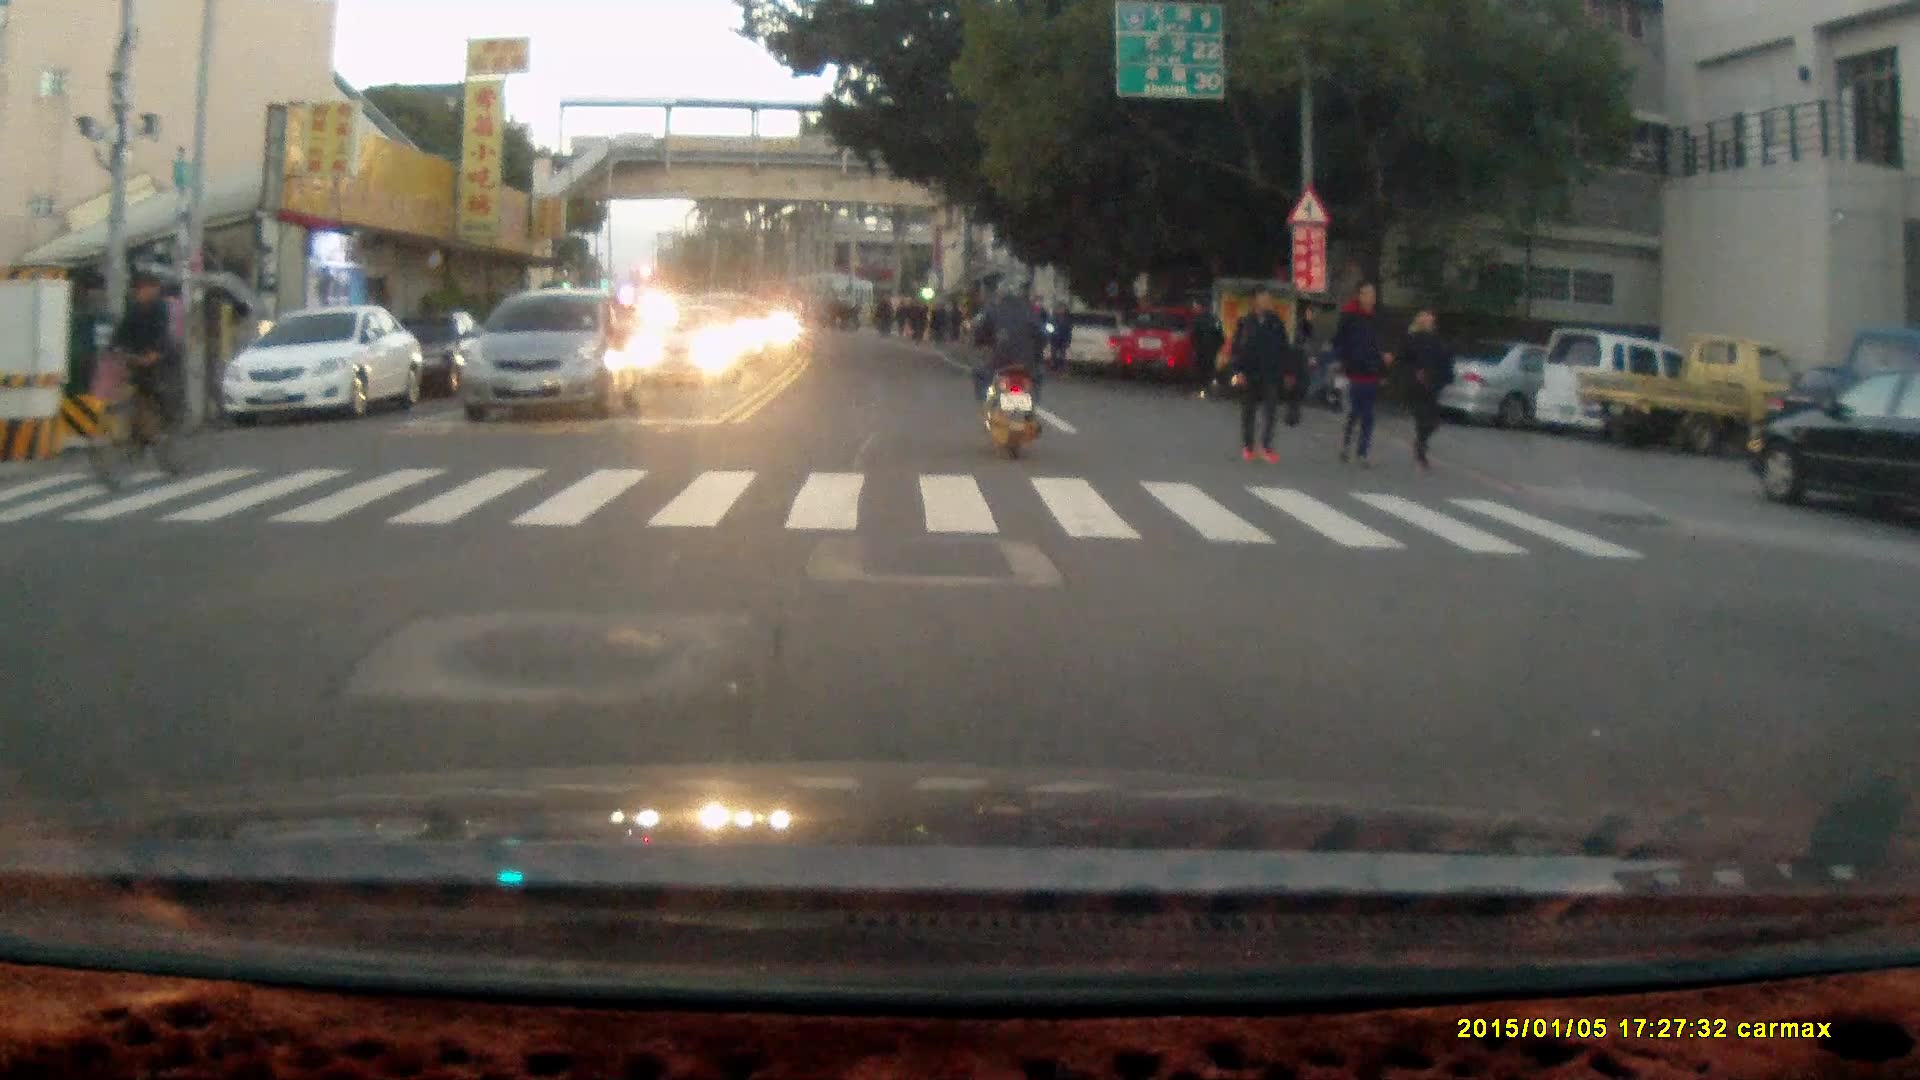pedestrian: (1328, 273, 1394, 475), (1227, 282, 1294, 468), (1398, 306, 1457, 477), (1184, 297, 1222, 405), (1048, 296, 1075, 378)
rider: (86, 268, 198, 497), (962, 277, 1051, 464)
vehicle: (1571, 332, 1813, 454), (1746, 368, 1920, 523), (452, 286, 642, 420), (221, 302, 423, 423), (1420, 336, 1651, 423), (379, 304, 505, 405), (633, 304, 740, 389), (1109, 302, 1214, 381)
